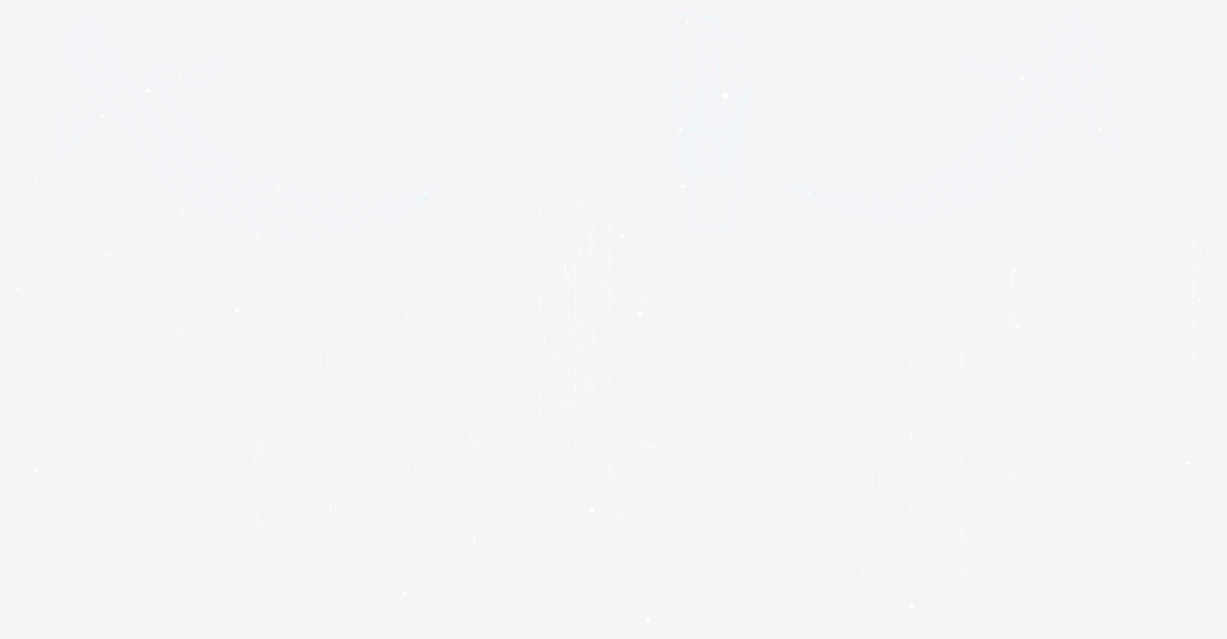
The model's file is starAndArrow.glb.
The picture shows the model from 3 angles, left to right: view 1: azimuth 30°, elevation 25°; view 2: azimuth 150°, elevation 25°; view 3: azimuth 270°, elevation 25°; orthographic projection. The views are drawn at different scales.
Visible parts, largest first — view 1: StarCandles; view 2: StarCandles, Curve_Material.001_0; view 3: StarCandles.
Part boxes in pixels (x1,y1,x2,y2): StarCandles: (14, 74, 494, 624); StarCandles: (523, 159, 666, 624); Curve_Material.001_0: (675, 14, 747, 228); StarCandles: (844, 131, 1212, 623).
Bounding box in the file's own units: 3.71 × 6.83 × 5.03.
